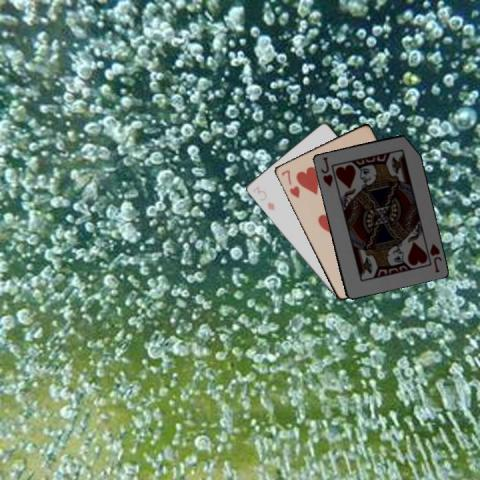3d: (249, 183, 276, 212)
7h: (278, 167, 301, 199)
Jh: (317, 153, 334, 188), (426, 241, 442, 274)
